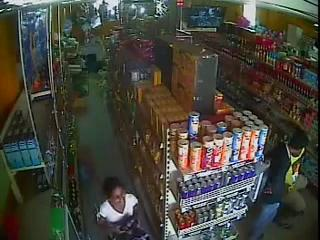Normal: (96, 177, 151, 240)
